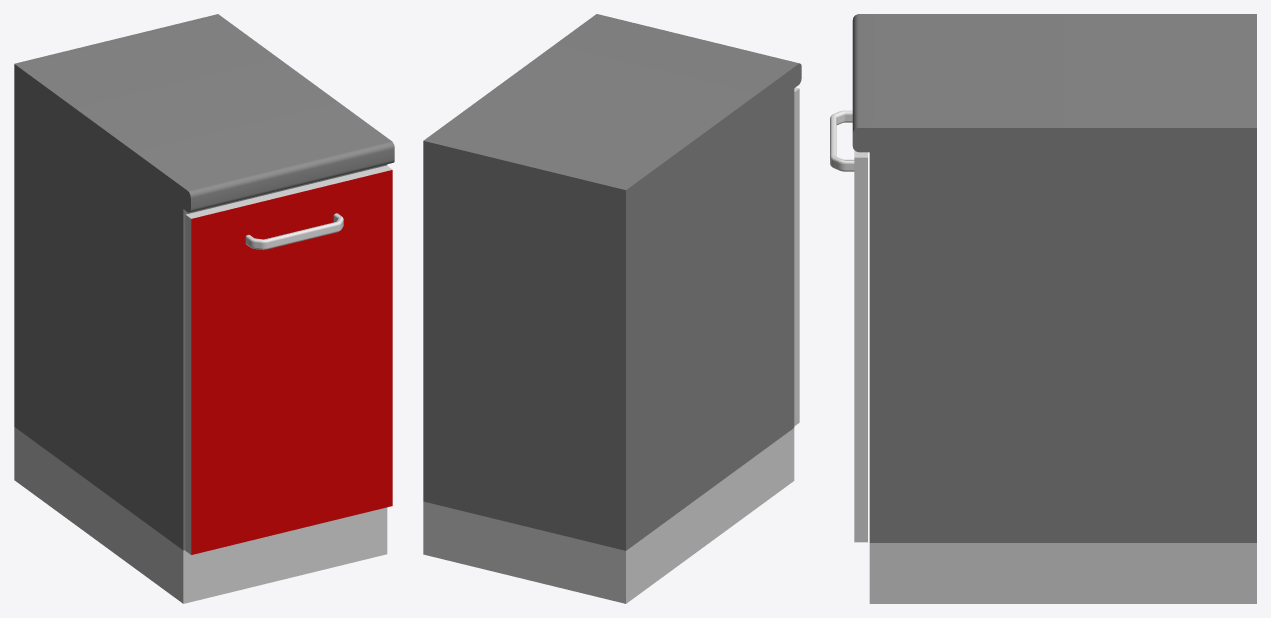
File: sweethome3d-lucapresidente-lower-cabinet-51.glb
3 views of the same model, side by side, from view 1: azimuth 30°, elevation 25°; view 2: azimuth 150°, elevation 25°; view 3: azimuth 270°, elevation 25° (orthographic). The views are drawn at different scales.
Parts seen in each view (by area): view 1: Box052_4, Box03_6, Line03_2, Box02_7, Box053_5, Box05_3, Loft01_1; view 2: Box03_6, Line03_2, Box02_7, Box053_5; view 3: Box03_6, Line03_2, Box02_7, Box053_5, Loft01_1.
Boxes of the visible parts, x1,y1,x2,y2 form: Box052_4: [191, 170, 392, 554]; Box03_6: [14, 85, 387, 550]; Line03_2: [14, 14, 394, 212]; Box02_7: [14, 427, 387, 603]; Box053_5: [185, 215, 191, 554]; Box05_3: [186, 165, 392, 218]; Loft01_1: [245, 213, 343, 249]; Box03_6: [423, 88, 794, 550]; Line03_2: [423, 14, 801, 211]; Box02_7: [423, 428, 794, 603]; Box053_5: [794, 89, 799, 426]; Box03_6: [869, 152, 1256, 542]; Line03_2: [852, 14, 1256, 152]; Box02_7: [869, 543, 1256, 603]; Box053_5: [854, 157, 867, 542]; Loft01_1: [830, 110, 854, 171].
Size of the model in its own units: 40 by 78 by 63.38.
